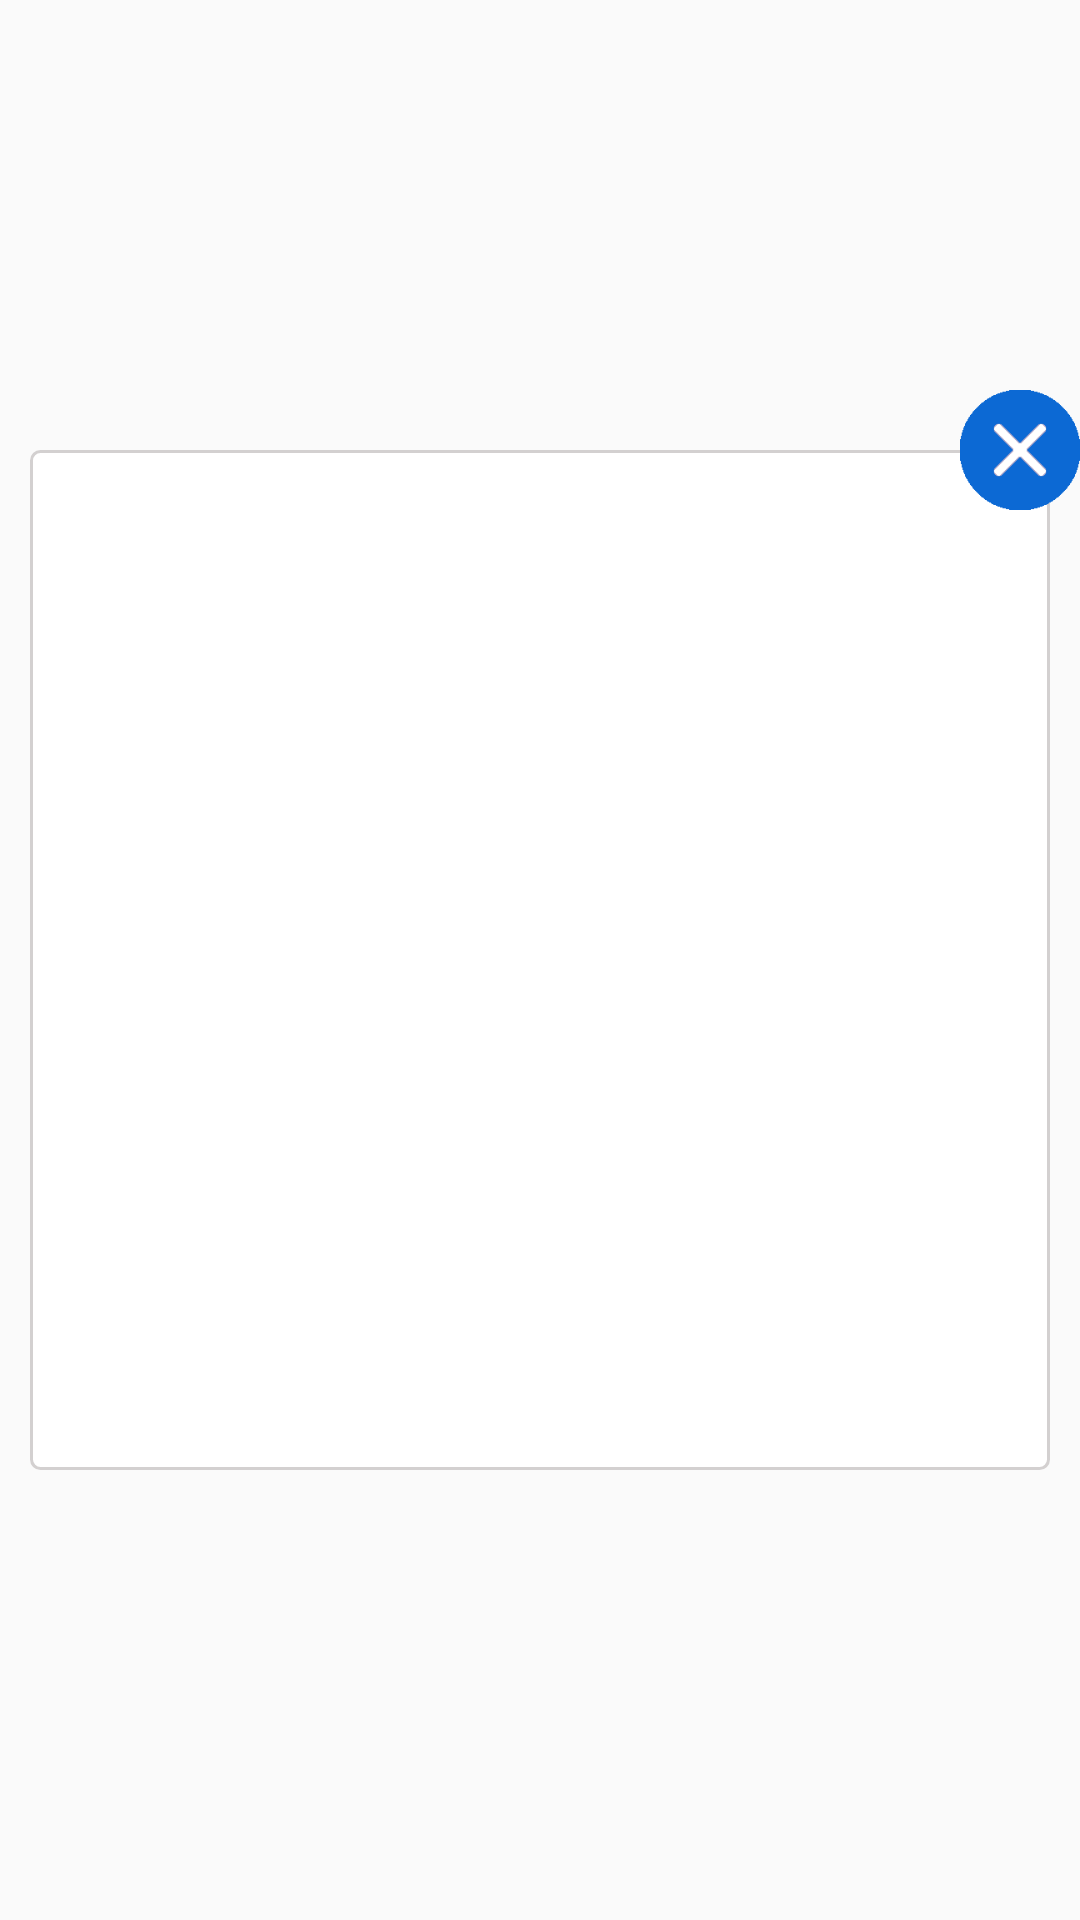

Icon bounding boxes for this 1080x1920 phone screenshot, format detection(x1, y1, x2, y2):
close popup: detection(960, 390, 1080, 510)
